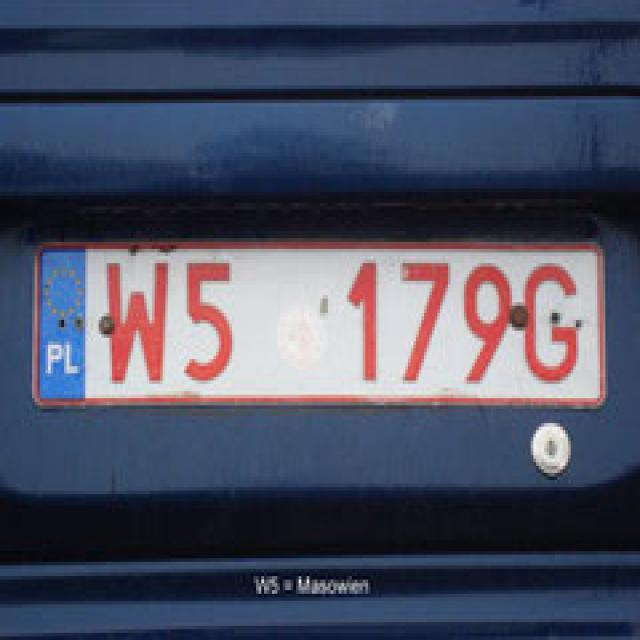pl_license_plate: (35, 242, 600, 398)
